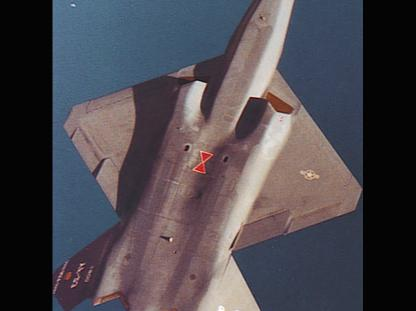US2: (53, 0, 363, 310)
